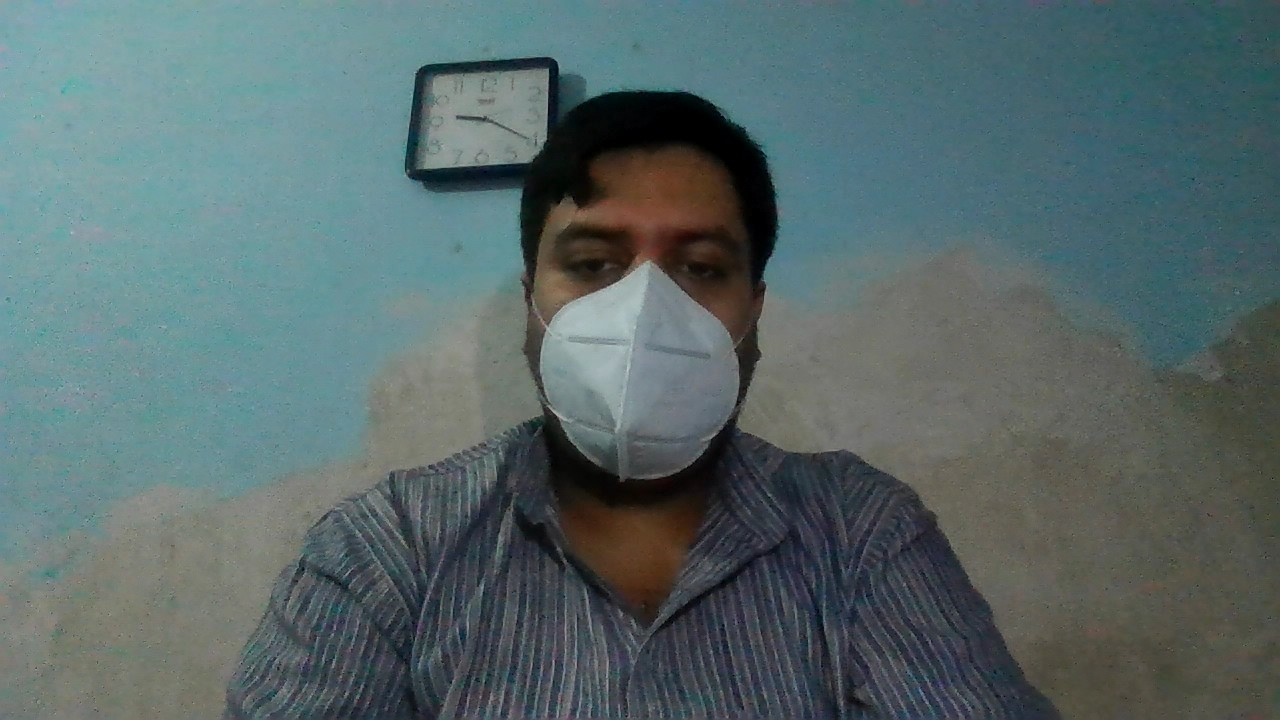Mask: (516, 262, 769, 484)
